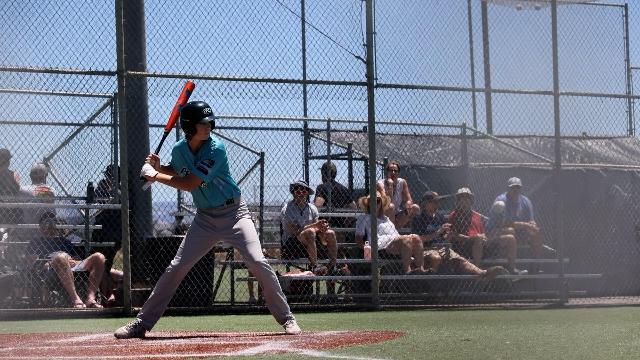ball: (493, 200, 507, 216)
bat: (156, 80, 197, 154)
